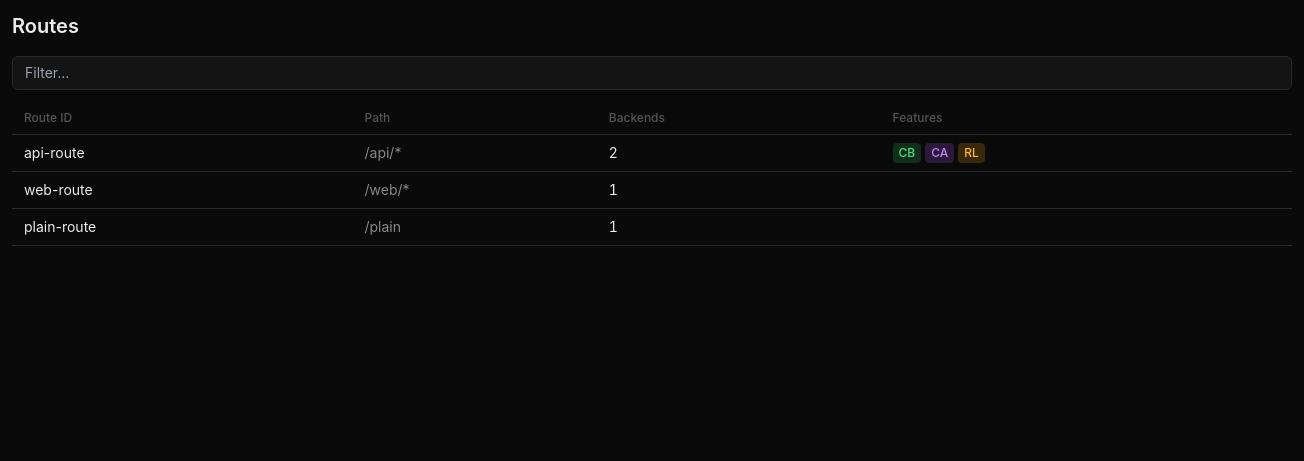
it: RoutesPage › click row opens detail panel
Click the text "api-route" at (54, 152), box [12,134,352,172]
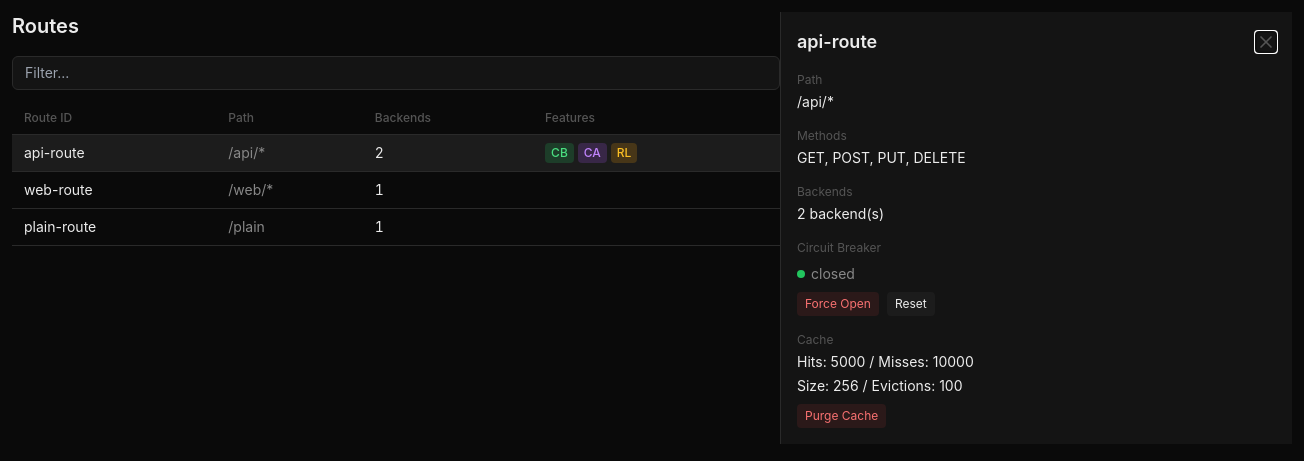
Result: the element named "details for api-route" is shown at [780,12,1292,444]
